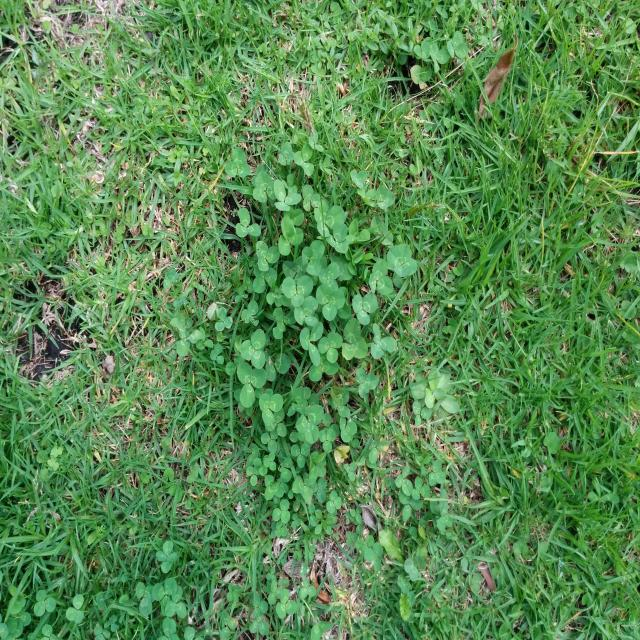Four Leaf Clover: (387, 244, 418, 277), (155, 540, 178, 573)
